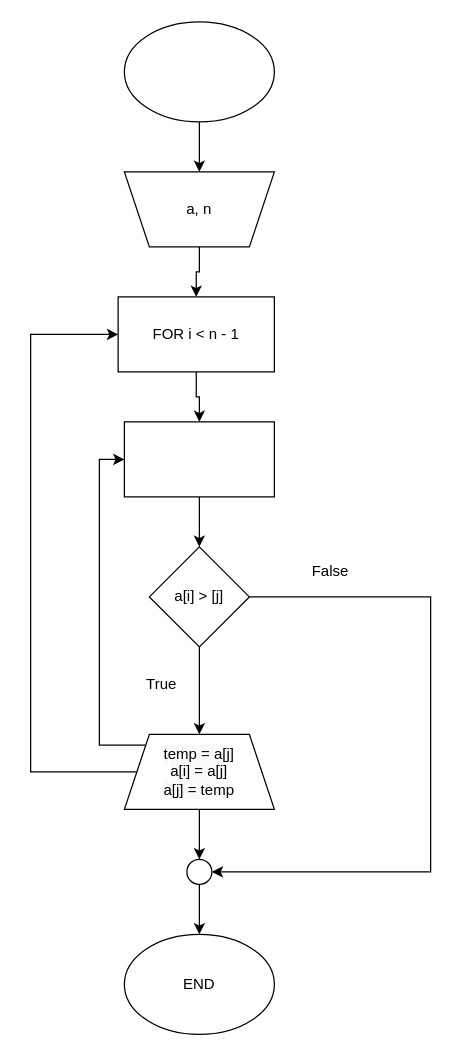
Some shapes in this 463 by 1056 pixel diagram are drawn without their labels. Each missing label, with the centre of its shape:
"BEGIN" goes at point 198,71.
"FOR j + 1 < n" goes at point 198,459.
